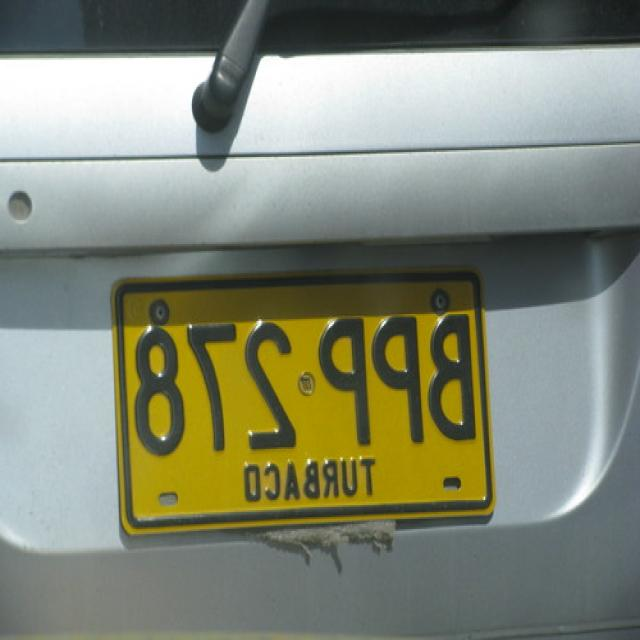placas: (126, 295, 486, 468)
